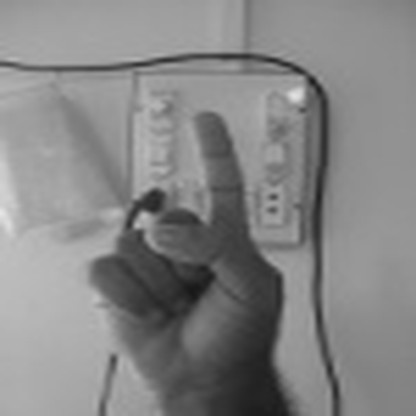d: (82, 109, 284, 389)
